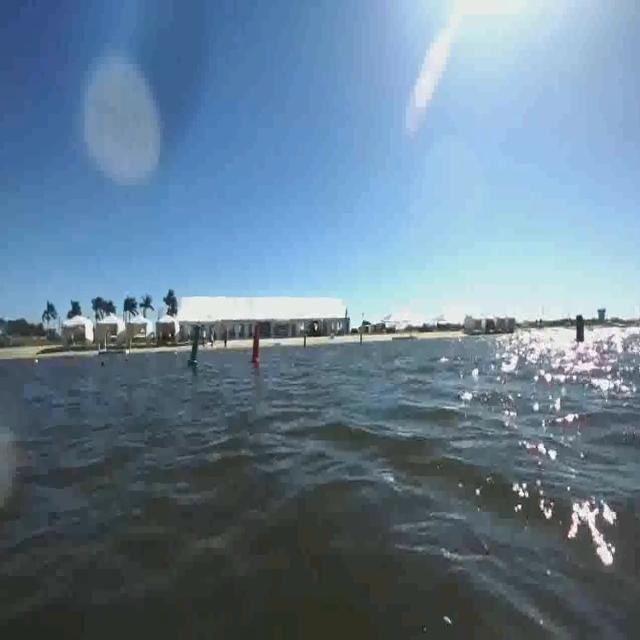green-column-buoy: (186, 324, 201, 368)
red-column-buoy: (250, 325, 262, 366)
